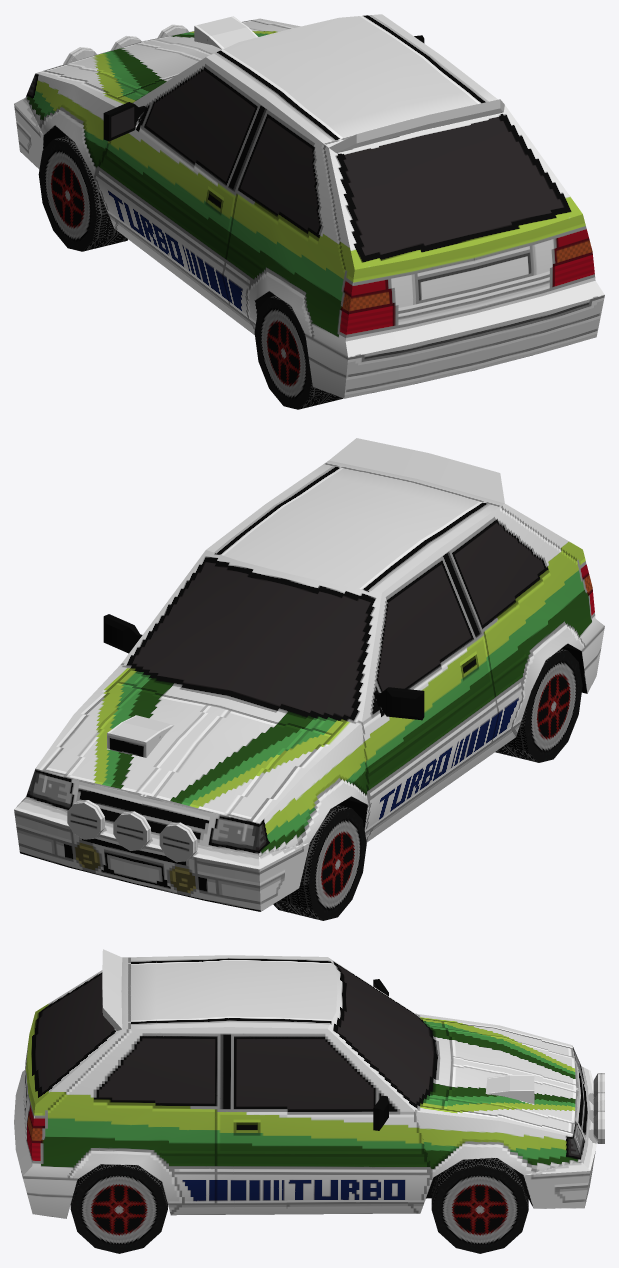
File: k10_city-r0-uzz84.glb
The picture shows the model from 3 angles, top to bottom: view 1: azimuth 30°, elevation 25°; view 2: azimuth 150°, elevation 25°; view 3: azimuth 270°, elevation 25°; orthographic projection. The views are drawn at different scales.
Parts seen in each view (by area): view 1: K10CityBody.001, wheel_mesh_0, wheel_mesh_2, K10RearSpoiler, K10BonnetScoop, K10SpotLights; view 2: K10CityBody.001, wheel_mesh_0, wheel_mesh_2, K10RearSpoiler, K10SpotLights, K10BonnetScoop; view 3: K10CityBody.001, wheel_mesh_1, wheel_mesh_3, K10RearSpoiler, K10BonnetScoop, K10SpotLights.
Boxes of the visible parts, x1,y1,x2,y2 form: K10CityBody.001: (14,14,604,398); wheel_mesh_0: (38,136,127,251); wheel_mesh_2: (254,295,342,409); K10RearSpoiler: (329,99,504,152); K10BonnetScoop: (194,16,257,49); K10SpotLights: (63,24,189,64); K10CityBody.001: (14,460,604,911); wheel_mesh_0: (273,805,366,920); wheel_mesh_2: (495,649,582,762); K10RearSpoiler: (329,438,504,503); K10SpotLights: (67,800,197,862); K10BonnetScoop: (107,715,173,757); K10CityBody.001: (14,955,596,1218); wheel_mesh_1: (431,1158,528,1253); wheel_mesh_3: (70,1164,167,1253); K10RearSpoiler: (102,949,122,1030); K10BonnetScoop: (485,1075,534,1103); K10SpotLights: (593,1073,604,1143).
Size of the model in its own units: 1.5 by 1.2 by 2.89.
Materials: 3 (3 with a texture image).
